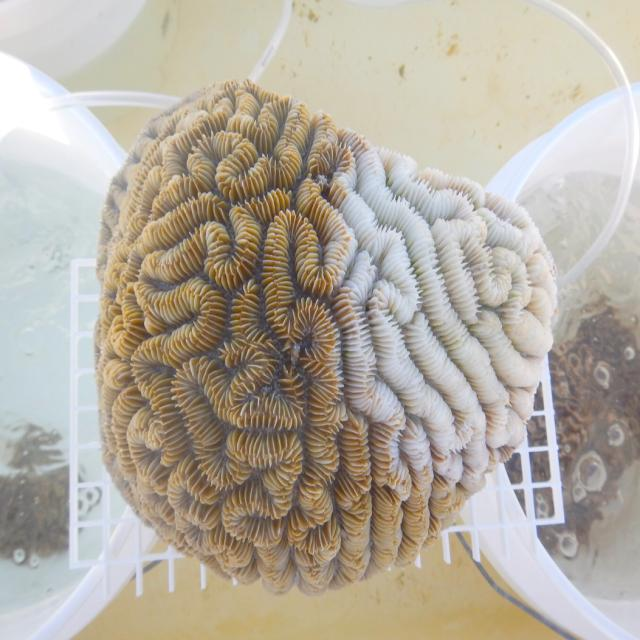Coral: (93, 77, 557, 595)
